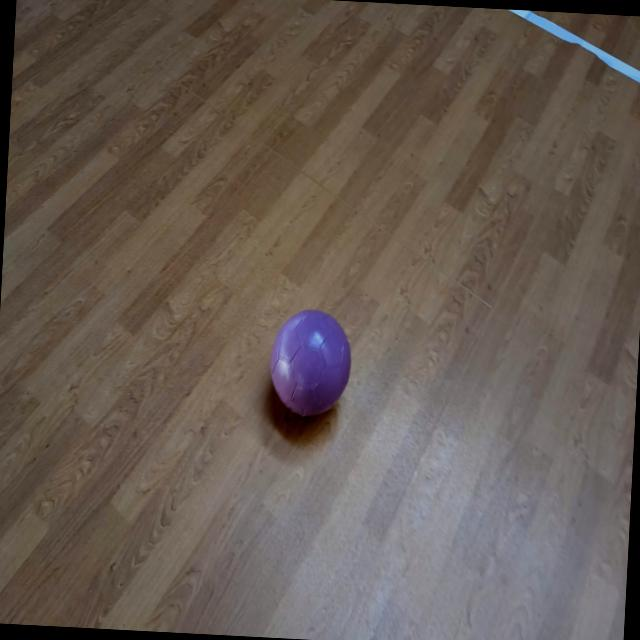purple_ball: (268, 306, 354, 421)
